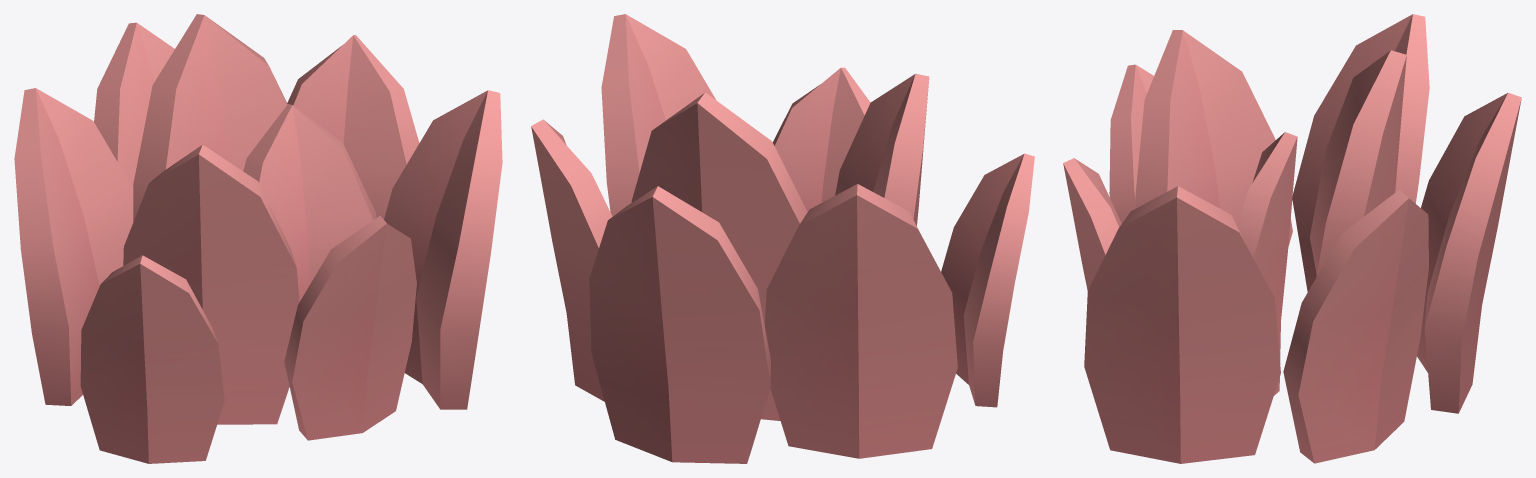
File: Grass_1_C_Color8.fbx
3 renders of one model, left to right at view 1: azimuth 30°, elevation 25°; view 2: azimuth 150°, elevation 25°; view 3: azimuth 270°, elevation 25°, orthographic. The views are drawn at different scales.
Visible parts, largest first — view 1: Grass_1_C_Color8; view 2: Grass_1_C_Color8; view 3: Grass_1_C_Color8.
Part boxes in pixels (left/top/right/bottom): Grass_1_C_Color8: left=14, top=14, right=502, bottom=463; Grass_1_C_Color8: left=531, top=14, right=1034, bottom=463; Grass_1_C_Color8: left=1063, top=14, right=1521, bottom=463.
Size of the model in its own units: 0.7518 by 0.5834 by 0.7171.
